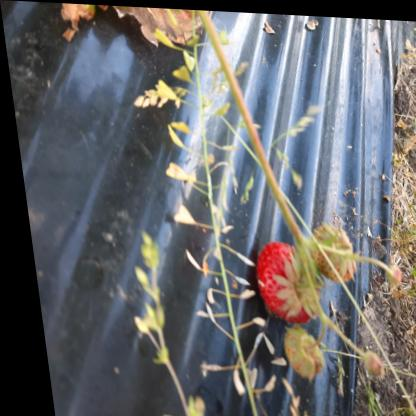ripe: (246, 239, 316, 318)
unripe: (302, 222, 352, 279), (277, 327, 314, 378)
